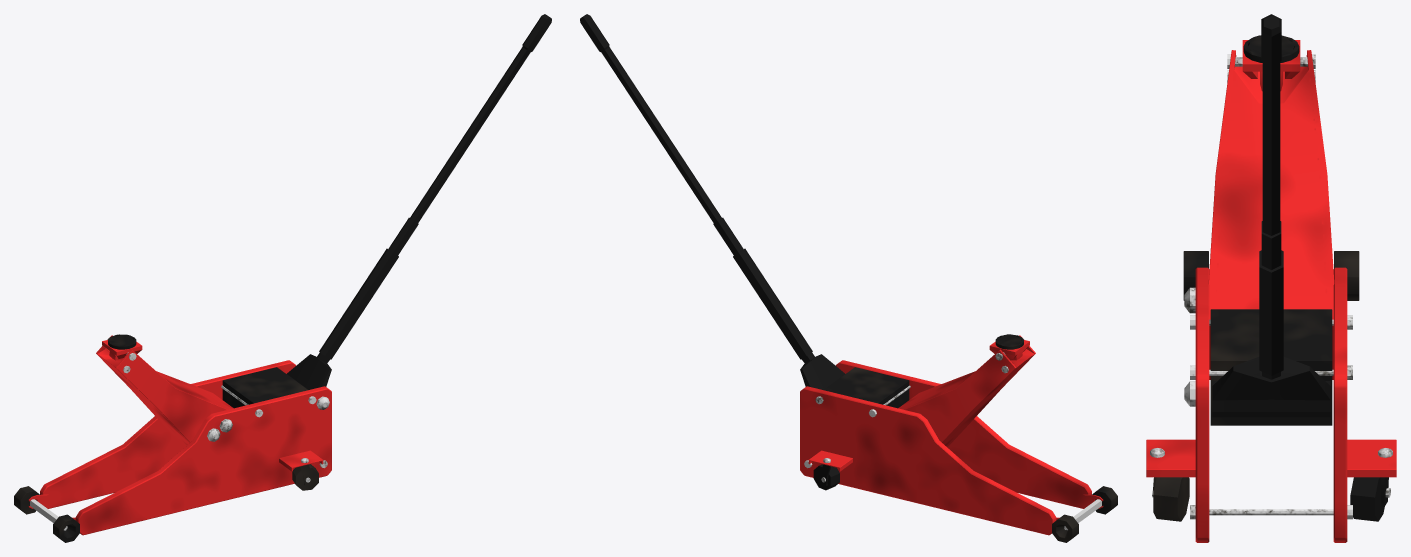
File: Car Jack 1_Baked 1k.fbx
3 renders of one model, left to right at view 1: azimuth 30°, elevation 25°; view 2: azimuth 150°, elevation 25°; view 3: azimuth 270°, elevation 25°, orthographic. The views are drawn at different scales.
Parts seen in each view (by area): view 1: Car Jack 1_Baked 1k; view 2: Car Jack 1_Baked 1k; view 3: Car Jack 1_Baked 1k.
Part boxes in pixels (x1,y1,x2,y2): Car Jack 1_Baked 1k: [14, 14, 551, 542]; Car Jack 1_Baked 1k: [580, 14, 1117, 542]; Car Jack 1_Baked 1k: [1146, 14, 1396, 542].
Bounding box in the file's own units: 83.03 × 59.99 × 18.13.
